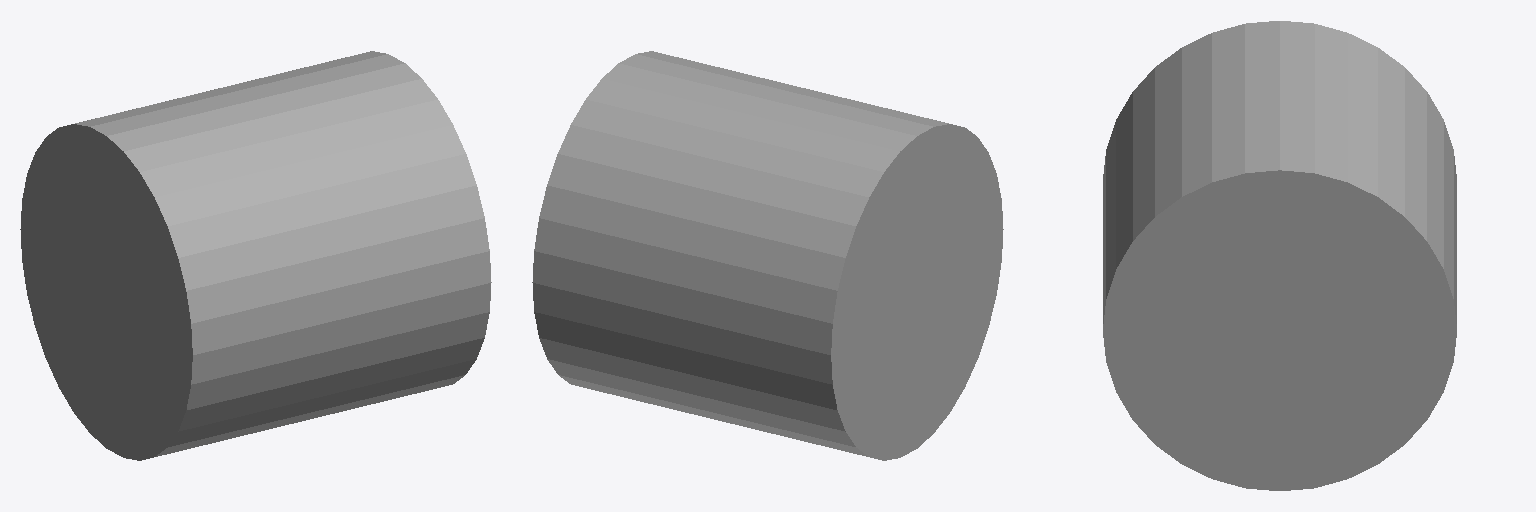
The robot description file, URDF, robot "panda":
<?xml version='1.0' encoding='utf-8'?>
<robot name="panda">

    <link name="link0">
      <inertial>
        <origin xyz="0 0 0.05" rpy="0 0 0" />
        <mass value="4" />
        <inertia ixx="0.4" iyy="0.4" izz="0.4" ixy="0" ixz="0" iyz="0" />
      </inertial>
      <visual>
        <geometry>
          <mesh filename="../../../Model/meshes_panda/visual/link0.obj"/>
        </geometry>
      </visual>
<!--       <collision>
        <geometry>
          <mesh filename="../../../Model/meshes/collision/link0.obj"/>
        </geometry>
      </collision> -->
    </link>
    <link name="link1">
      <inertial>
        <origin xyz="0 0 -0.07" rpy="0 -0 0" />
        <mass value="3" />
        <inertia ixx="0.3" iyy="0.3" izz="0.3" ixy="0" ixz="0" iyz="0" />
      </inertial>
      <visual>
        <geometry>
          <mesh filename="../../../Model/meshes_panda/visual/link1.obj"/>
        </geometry>
      </visual>
      <!-- <collision>
        <geometry>
          <mesh filename="../../../Model/meshes/collision/link1.obj"/>
        </geometry>
      </collision> -->
    </link>
    <link name="link2">
      <inertial>
        <origin xyz="0 -0.1 0" rpy="0 -0 0" />
        <mass value="3" />
        <inertia ixx="0.3" iyy="0.3" izz="0.3" ixy="0" ixz="0" iyz="0" />
      </inertial>
      <visual>
        <geometry>
          <mesh filename="../../../Model/meshes_panda/visual/link2.obj"/>
        </geometry>
      </visual>
      <!-- <collision>
        <geometry>
          <mesh filename="../../../Model/meshes/collision/link2.obj"/>
        </geometry>
      </collision> -->
    </link>
    <link name="link3">
      <inertial>
        <origin xyz="0.04 0 -0.05" rpy="0 -0 0" />
        <mass value="2" />
        <inertia ixx="0.2" iyy="0.2" izz="0.2" ixy="0" ixz="0" iyz="0" />
      </inertial>
      <visual>
        <geometry>
          <mesh filename="../../../Model/meshes_panda/visual/link3.obj"/>
        </geometry>
      </visual>
      <!-- <collision>
        <geometry>
          <mesh filename="../../../Model/meshes/collision/link3.obj"/>
        </geometry>
      </collision> -->
    </link>
    <link name="link4">
      <inertial>
        <origin xyz="-0.04 0.05 0" rpy="0 -0 0" />
        <mass value="2" />
        <inertia ixx="0.2" iyy="0.2" izz="0.2" ixy="0" ixz="0" iyz="0" />
      </inertial>
      <visual>
        <geometry>
          <mesh filename="../../../Model/meshes_panda/visual/link4.obj"/>
        </geometry>
      </visual>
<!--       <collision>
        <geometry>
          <mesh filename="../../../Model/meshes/collision/link4.obj"/>
        </geometry>
      </collision> -->
    </link>
    <link name="link5">
      <inertial>
        <origin xyz="0 0 -0.15" rpy="0 -0 0" />
        <mass value="2" />
        <inertia ixx="0.2" iyy="0.2" izz="0.2" ixy="0" ixz="0" iyz="0" />
      </inertial>
      <visual>
        <geometry>
          <mesh filename="../../../Model/meshes_panda/visual/link5.obj"/>
        </geometry>
      </visual>
<!--       <collision>
        <geometry>
          <mesh filename="../../../Model/meshes/collision/link5.obj"/>
        </geometry>
      </collision> -->
    </link>
    <link name="link6">
      <inertial>
        <origin xyz="0.06 0 0" rpy="0 -0 0" />
        <mass value="1.5" />
        <inertia ixx="0.1" iyy="0.1" izz="0.1" ixy="0" ixz="0" iyz="0" />
      </inertial>
      <visual>
        <geometry>
          <mesh filename="../../../Model/meshes_panda/visual/link6.obj"/>
        </geometry>
      </visual>
      <!-- <collision>
        <geometry>
          <mesh filename="../../../Model/meshes/collision/link6.obj"/>
        </geometry>
      </collision> -->
    </link>
    <link name="link7">
      <inertial>
        <origin xyz="0 0 0.17" rpy="0 -0 0" />
        <mass value="1.8" />
        <inertia ixx="0.09" iyy="0.05" izz="0.07" ixy="0" ixz="0" iyz="0" />
      </inertial>
      <visual>
        <geometry>
          <mesh filename="../../../Model/meshes_panda/visual/link7.obj"/>
        </geometry>
      </visual>
      <visual>
        <origin xyz="0 0 0.1" rpy="0 0 0" />
        <geometry>
          <!-- <sphere radius="0.04" /> -->
          <!-- <box size="0.04 0.04 0.04"/> -->
          <cylinder length="0.04" radius="0.02"/>
        </geometry>
      </visual>
      <collision>
        <origin xyz="0 0 0.1" rpy="0 0 0" />
        <geometry>
          <!-- <sphere radius="0.04" /> -->
          <!-- <box size="0.04 0.04 0.04"/> -->
          <cylinder length="0.04" radius="0.02"/>
        </geometry>
      </collision>



    </link>
    <joint name="joint1" type="revolute">
      <safety_controller k_position="100.0" k_velocity="40.0" soft_lower_limit="-2.8973" soft_upper_limit="2.8973"/>
      <origin rpy="0 0 0" xyz="0 0 0.333"/>
      <parent link="link0"/>
      <child link="link1"/>
      <axis xyz="0 0 1"/>
      <limit effort="87" lower="-2.8973" upper="2.8973" velocity="2.1750"/>
    </joint>
    <joint name="joint2" type="revolute">
      <safety_controller k_position="100.0" k_velocity="40.0" soft_lower_limit="-1.7628" soft_upper_limit="1.7628"/>
      <origin rpy="-1.57079632679 0 0" xyz="0 0 0"/>
      <parent link="link1"/>
      <child link="link2"/>
      <axis xyz="0 0 1"/>
      <calibration falling="-45.0" />
      <limit effort="87" lower="-1.7628" upper="1.7628" velocity="2.1750"/>
    </joint>
    <joint name="joint3" type="revolute">
      <safety_controller k_position="100.0" k_velocity="40.0" soft_lower_limit="-2.8973" soft_upper_limit="2.8973"/>
      <origin rpy="1.57079632679 0 0" xyz="0 -0.316 0"/>
      <parent link="link2"/>
      <child link="link3"/>
      <axis xyz="0 0 1"/>
      <limit effort="87" lower="-2.8973" upper="2.8973" velocity="2.1750"/>
    </joint>
    <joint name="joint4" type="revolute">
      <safety_controller k_position="100.0" k_velocity="40.0" soft_lower_limit="-3.0718" soft_upper_limit="-0.0698"/>
      <origin rpy="1.57079632679 0 0" xyz="0.0825 0 0"/>
      <parent link="link3"/>
      <child link="link4"/>
      <axis xyz="0 0 1"/>
      <calibration falling="-125.0" />
      <limit effort="87" lower="-3.0718" upper="-0.0698" velocity="2.1750"/>
    </joint>
    <joint name="joint5" type="revolute">
      <safety_controller k_position="100.0" k_velocity="40.0" soft_lower_limit="-2.8973" soft_upper_limit="2.8973"/>
      <origin rpy="-1.57079632679 0 0" xyz="-0.0825 0.384 0"/>
      <parent link="link4"/>
      <child link="link5"/>
      <axis xyz="0 0 1"/>
      <limit effort="12" lower="-2.8973" upper="2.8973" velocity="2.6100"/>
    </joint>
    <joint name="joint6" type="revolute">
      <safety_controller k_position="100.0" k_velocity="40.0" soft_lower_limit="-0.0175" soft_upper_limit="3.7525"/>
      <origin rpy="1.57079632679 0 0" xyz="0 0 0"/>
      <parent link="link5"/>
      <child link="link6"/>
      <axis xyz="0 0 1"/>
      <calibration falling="80.0" />
      <limit effort="12" lower="-0.0175" upper="3.7525" velocity="2.6100"/>
    </joint>
    <joint name="joint7" type="revolute">
      <safety_controller k_position="100.0" k_velocity="40.0" soft_lower_limit="-2.8973" soft_upper_limit="2.8973"/>
      <origin rpy="1.57079632679 0 0" xyz="0.088 0 0"/>
      <parent link="link6"/>
      <child link="link7"/>
      <axis xyz="0 0 1"/>
      <limit effort="12" lower="-2.8973" upper="2.8973" velocity="2.6100"/>
    </joint>
</robot>

--- Render facts (derived) ---
Views: 3 orthographic renders of the robot side by side, from view 1: azimuth 30°, elevation 25°; view 2: azimuth 150°, elevation 25°; view 3: azimuth 270°, elevation 25°.
Robot: panda — 8 links, 7 joints (7 revolute); root link link0; default pose: all joints at 0 but 1 set to mid-range because 0 is outside their limits (joint4 = -1.57).
Visible links, largest first — view 1: link7; view 2: link7; view 3: link7.
Link boxes in pixels (box(x1,y1,x2,y2)): link7: box(20, 51, 491, 460); link7: box(532, 51, 1003, 460); link7: box(1103, 21, 1456, 490).
Size in the robot's own frame: 0.04 by 0.04 by 0.04 metres.
Geometry: only primitive shapes (box / cylinder / sphere) drawn; not drawn: 8 mesh visuals (reference in a form the renderer does not follow).